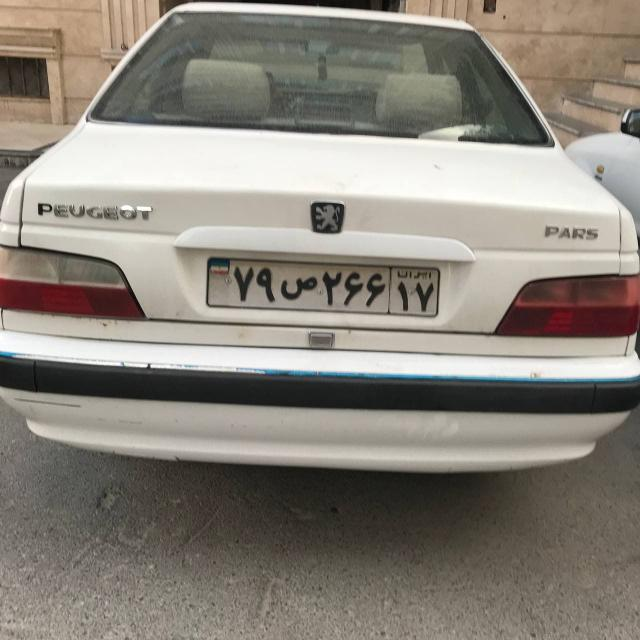Plates: (207, 258, 440, 317)
